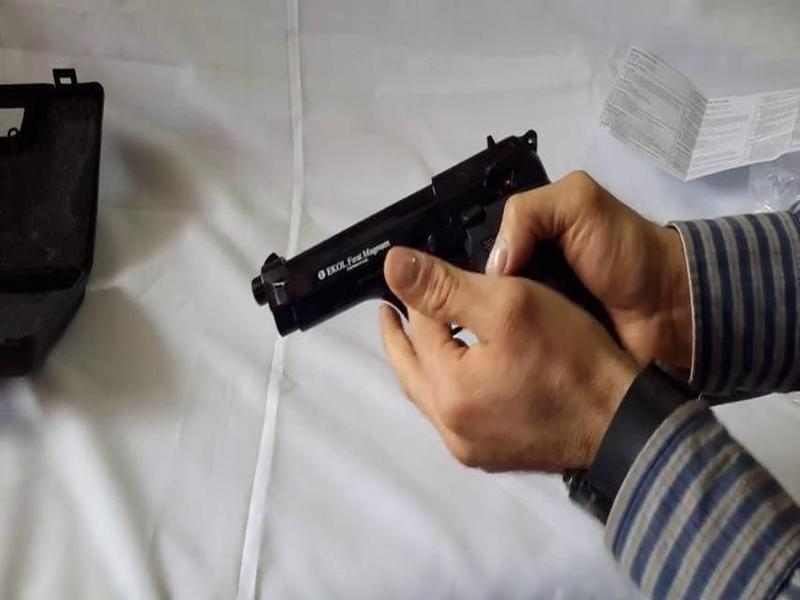Pistola: (249, 120, 634, 376)
